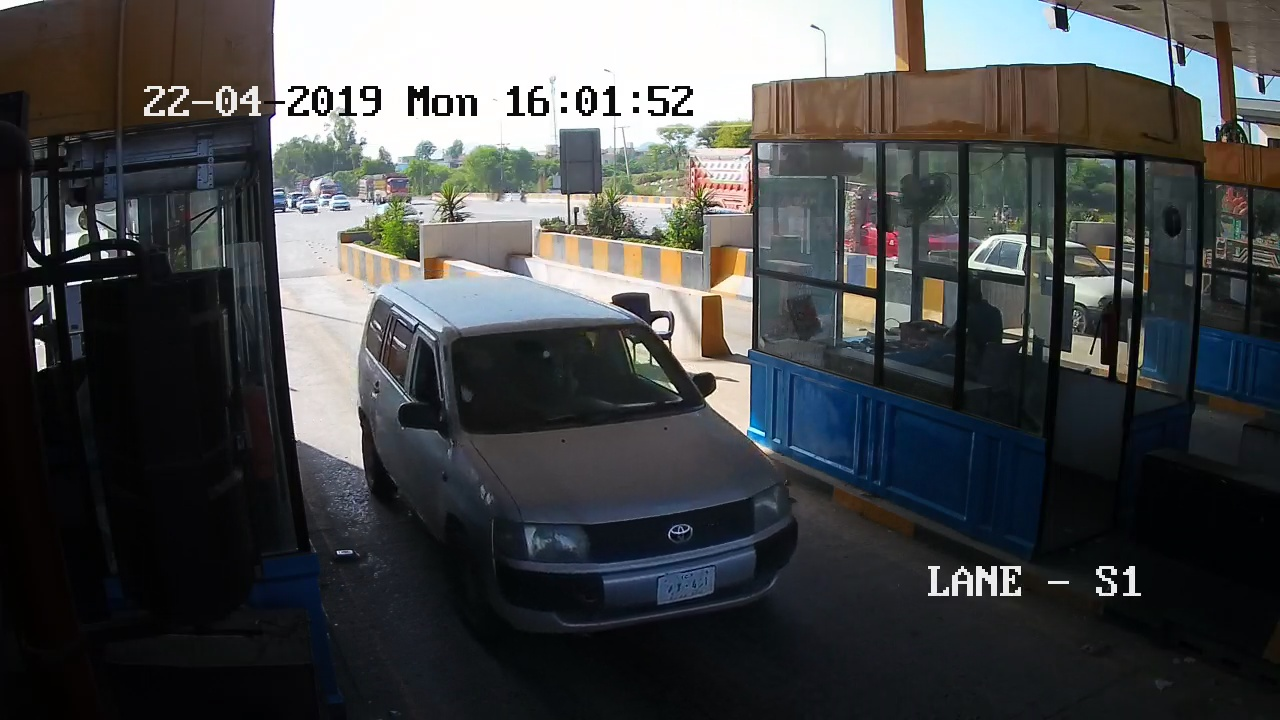car: (351, 278, 808, 659)
